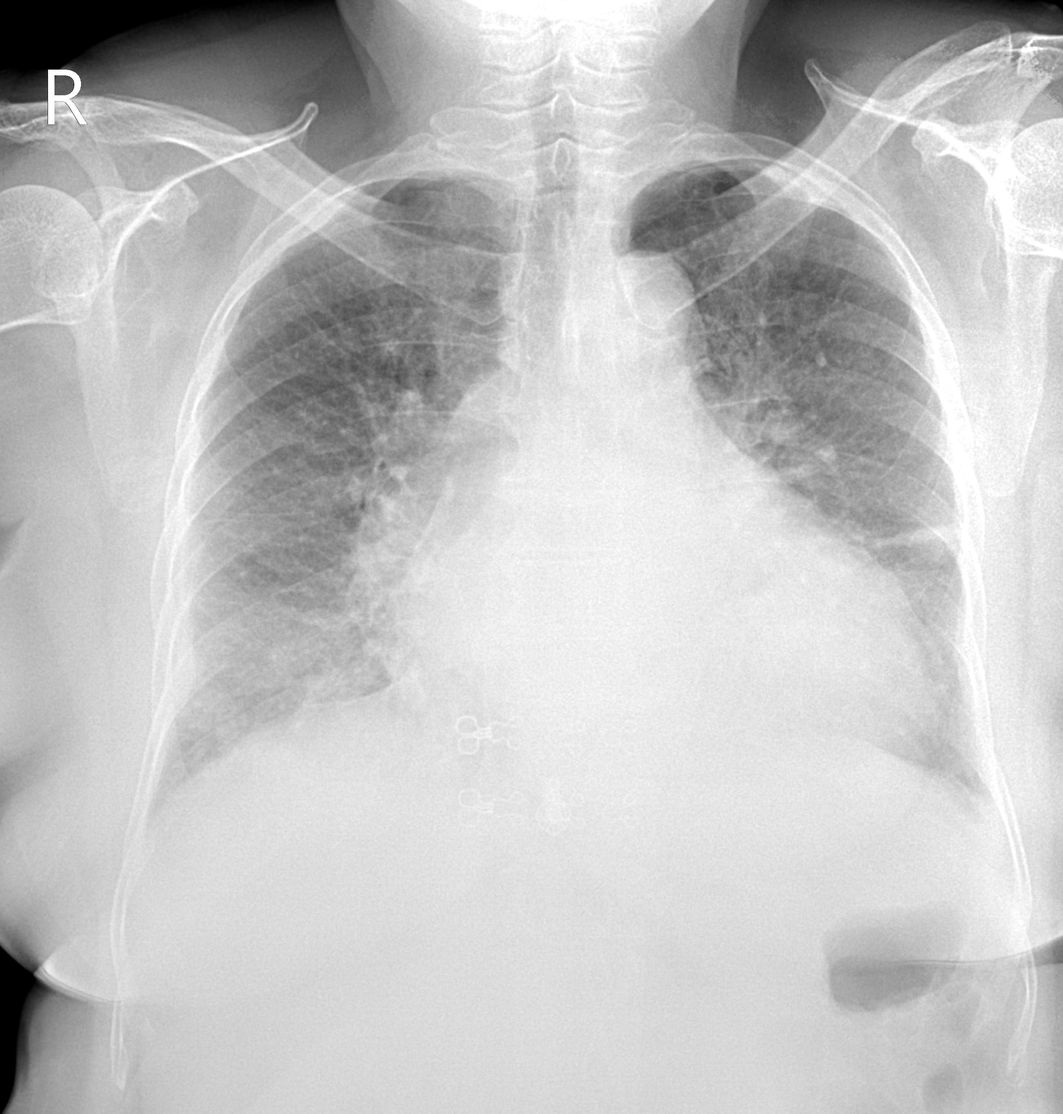Aortic enlargement: (577, 258, 706, 384)
Cardiomegaly: (363, 577, 942, 746)
Pulmonary fibrosis: (837, 515, 958, 553)
